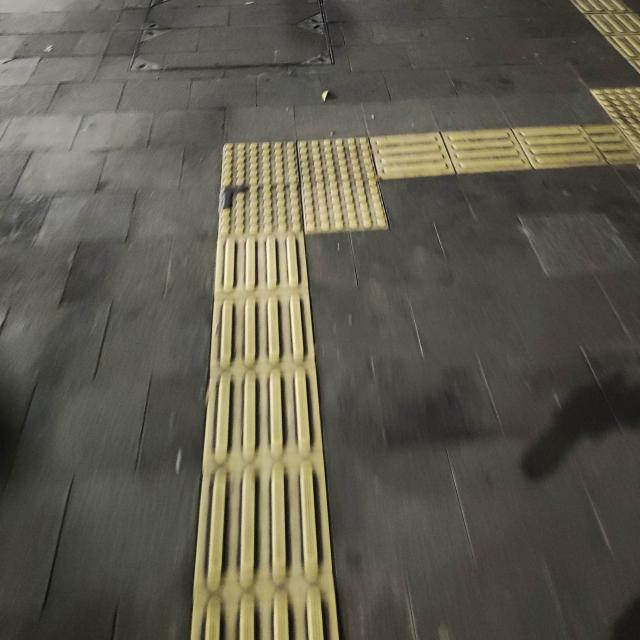kanan: (156, 90, 520, 278)
